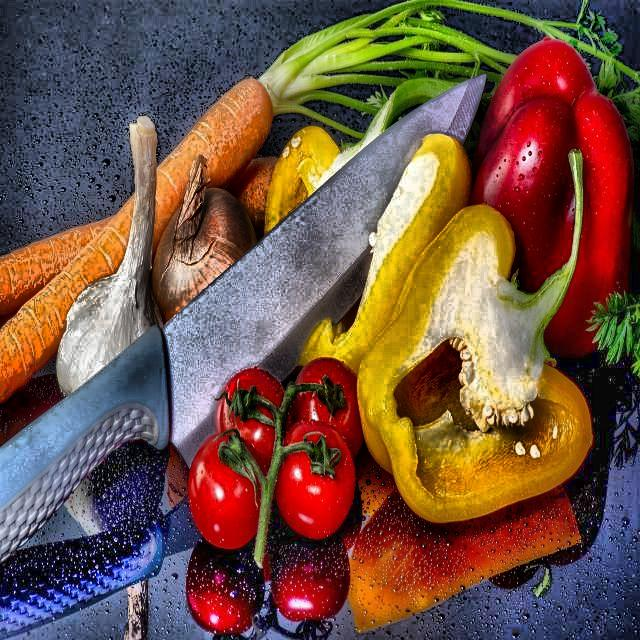knife: (0, 69, 489, 562)
